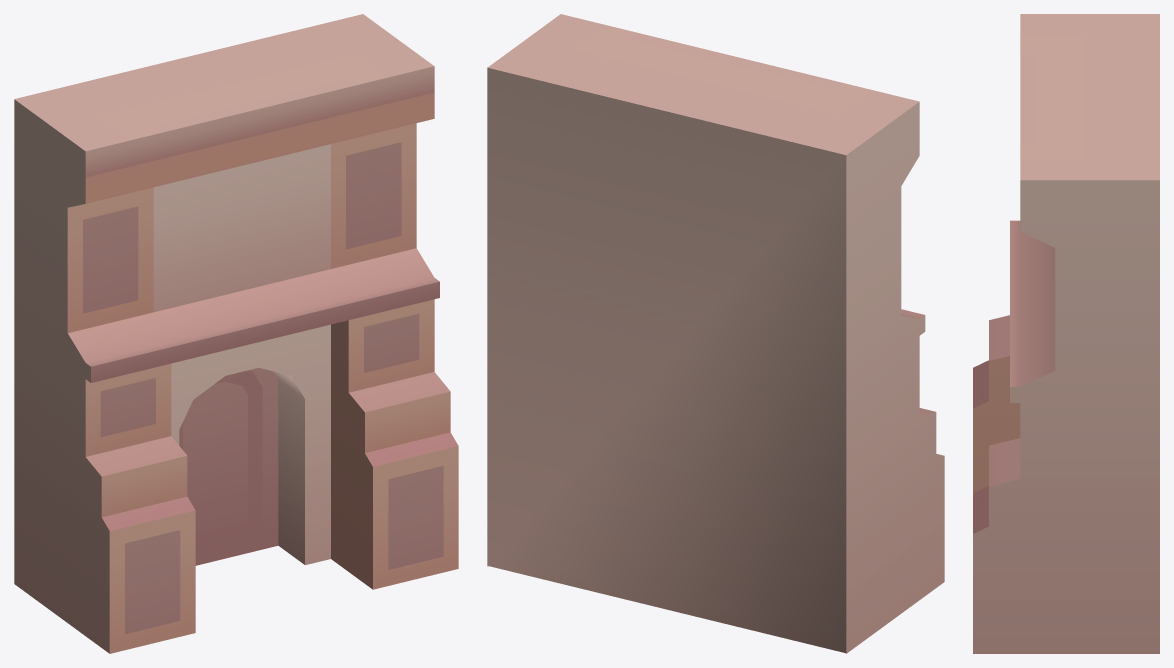
Rendered from Gate.fbx.
3 renders of one model, left to right at view 1: azimuth 30°, elevation 25°; view 2: azimuth 150°, elevation 25°; view 3: azimuth 270°, elevation 25°, orthographic. The views are drawn at different scales.
Visible parts, largest first — view 1: Cube; view 2: Cube; view 3: Cube.
Boxes of the visible parts, x1,y1,x2,y2 form: Cube: (14,14,458,653); Cube: (487,14,944,653); Cube: (973,14,1159,653).
Size of the model in its own units: 335 by 444 by 159.
